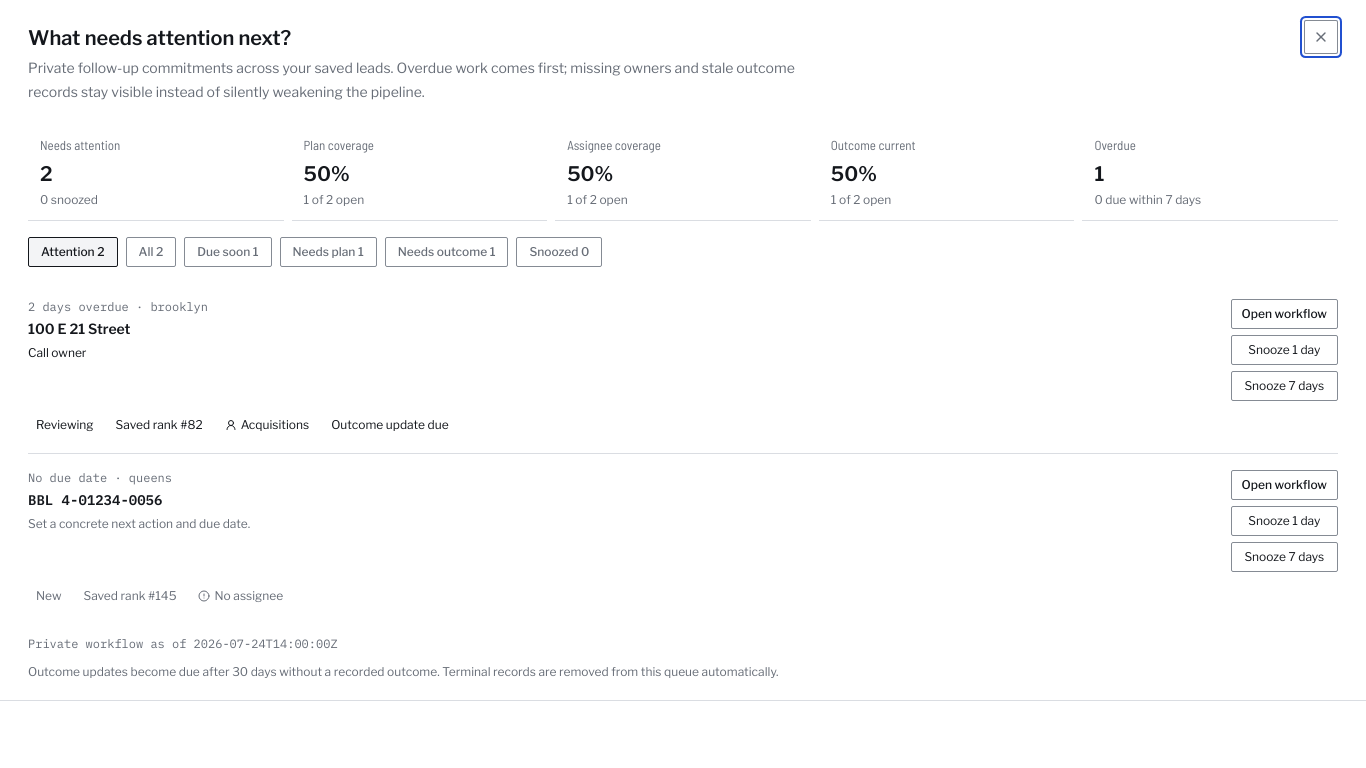
Test: ParcelWorkflowActionsPanel › filters to records without a complete follow-up plan
The width and height of the screenshot is (1366, 768).
Expected: the heading "100 E 21 Street" is shown, [28,320,130,336]
Click the button "Needs plan 1" at (328, 252), box [280,236,377,266]
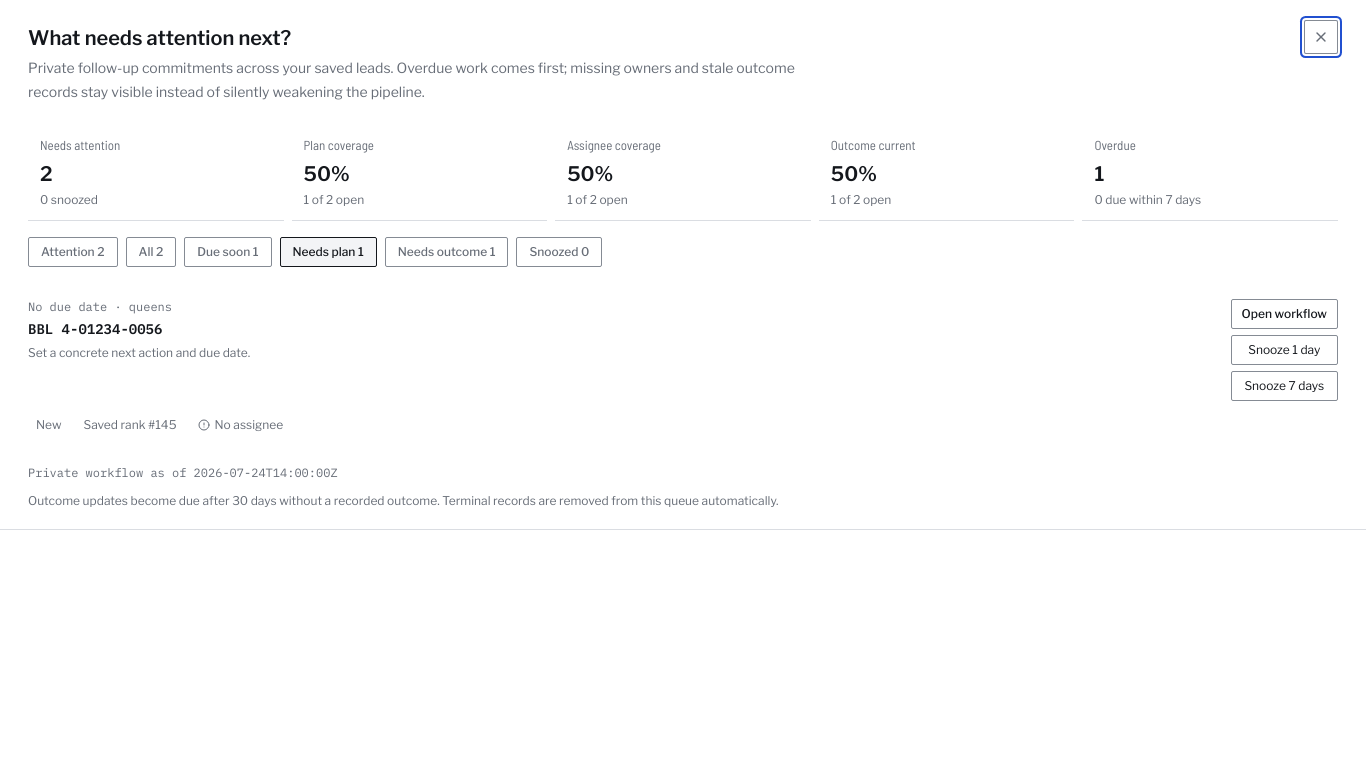
Expected: the heading "BBL 4-01234-0056" is shown, [28,320,162,338]
Result: the heading "100 E 21 Street" is gone
